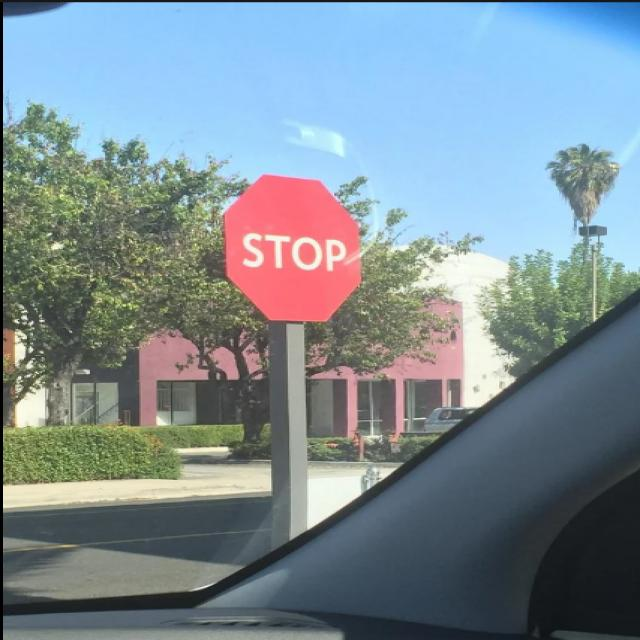stop-sign: (211, 161, 440, 344)
